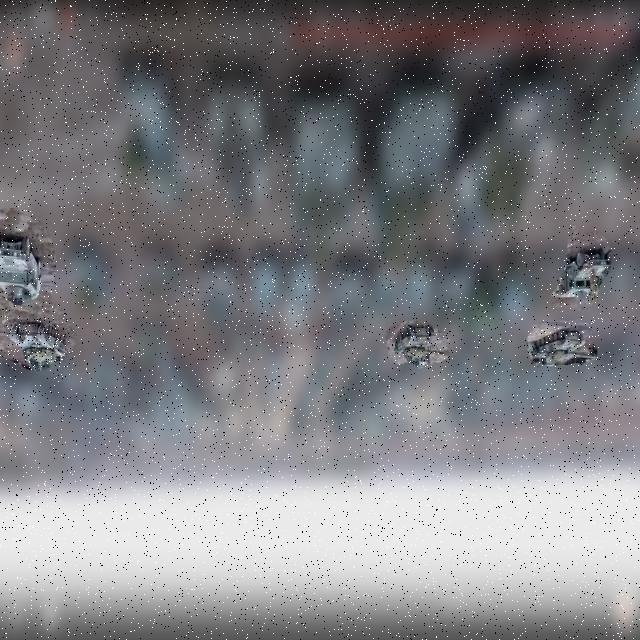MIL_MBT: (526, 318, 599, 368), (8, 318, 70, 368), (391, 320, 451, 370)
